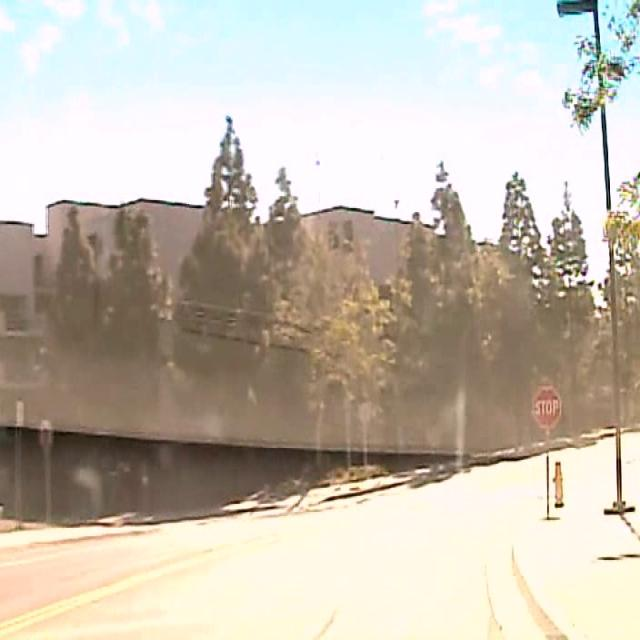stop: (532, 386, 561, 430)
